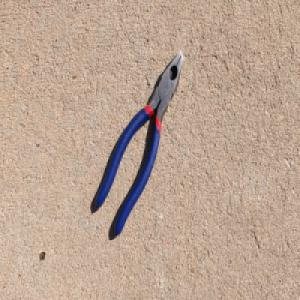Pliers: (94, 49, 184, 238)
